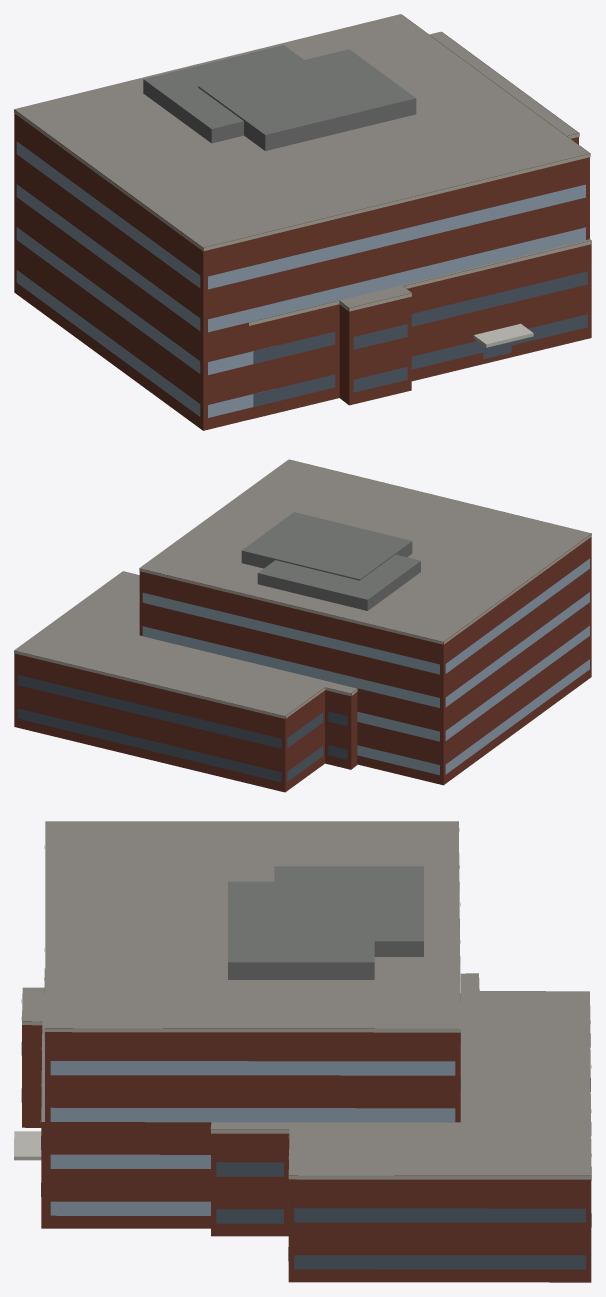
File: ualr-ottenheimer-library.glb
3 renders of one model, top to bottom at view 1: azimuth 30°, elevation 25°; view 2: azimuth 150°, elevation 25°; view 3: azimuth 270°, elevation 25°, orthographic. The views are drawn at different scales.
Parts seen in each view (by area): view 1: ualr_ottenheimer_library; view 2: ualr_ottenheimer_library; view 3: ualr_ottenheimer_library.
Boxes of the visible parts, box(x1,y1,x2,y2) form: ualr_ottenheimer_library: box(14, 14, 591, 430); ualr_ottenheimer_library: box(14, 459, 591, 792); ualr_ottenheimer_library: box(14, 821, 591, 1282).
Size of the model in its own units: 66.81 by 26.06 by 62.57.
